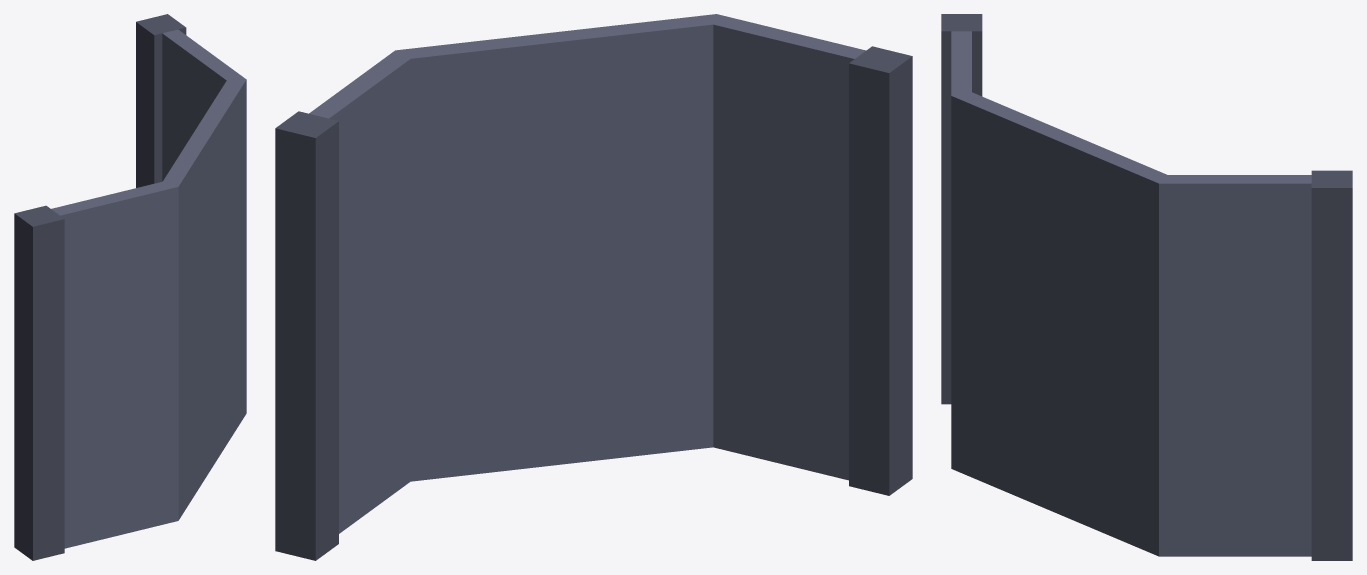
The model's file is wall-wood-corner-diagonal.glb.
3 views of the same model, side by side, from view 1: azimuth 30°, elevation 25°; view 2: azimuth 150°, elevation 25°; view 3: azimuth 270°, elevation 25° (orthographic). The views are drawn at different scales.
Visible parts, largest first — view 1: wall-wood-corner-diagonal; view 2: wall-wood-corner-diagonal; view 3: wall-wood-corner-diagonal.
Boxes of the visible parts, x1,y1,x2,y2 form: wall-wood-corner-diagonal: (14,14,246,560); wall-wood-corner-diagonal: (275,14,912,560); wall-wood-corner-diagonal: (941,14,1352,560).
Size of the model in its own units: 1 by 1 by 1.
Materials: 1 (1 with a texture image).
